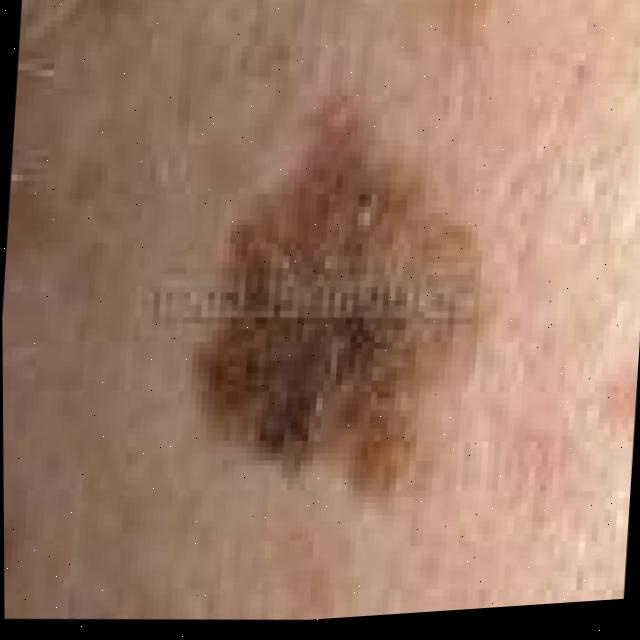Melasma: (205, 152, 484, 465)
